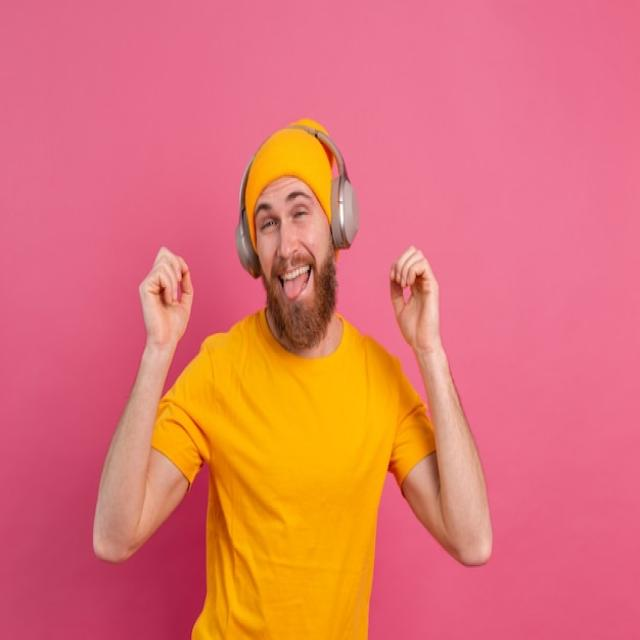Headphone: (235, 124, 360, 280)
